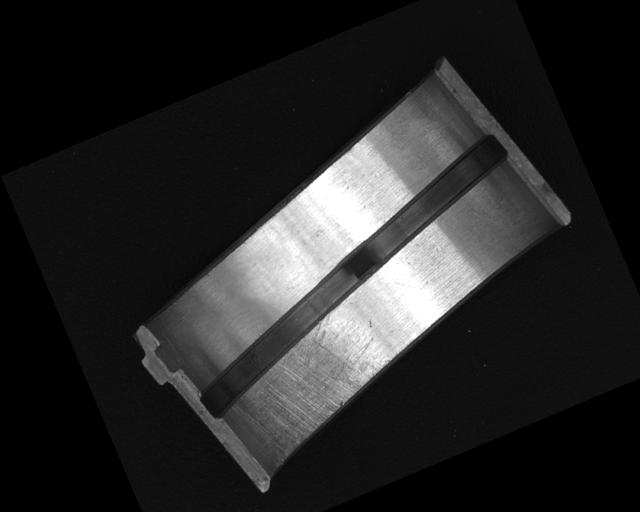gap: (148, 129, 559, 422)
scratch: (219, 300, 402, 468)
